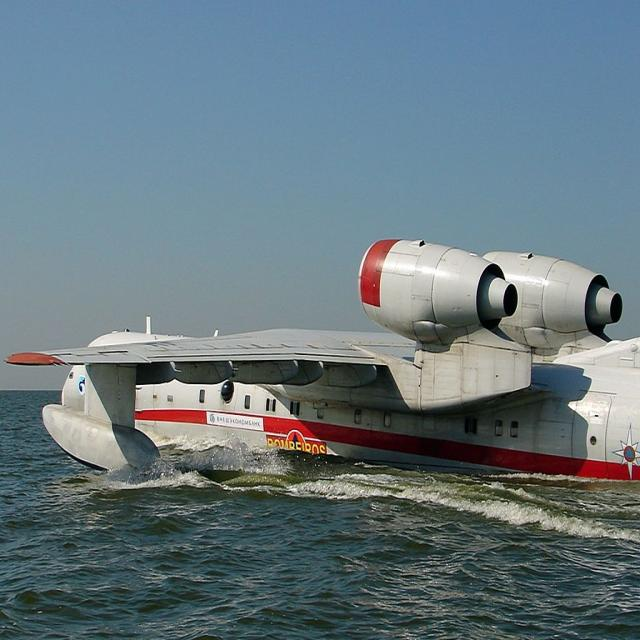MIL_Plane: (0, 0, 383, 224)
